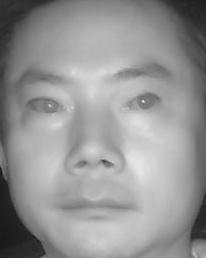eye: (25, 93, 67, 117), (119, 92, 161, 115)
mouth: (56, 187, 135, 227)
